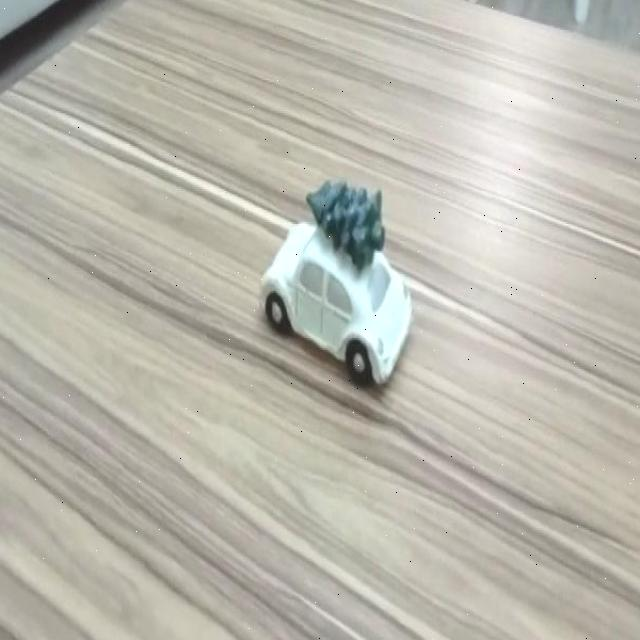car: (259, 226, 412, 381)
